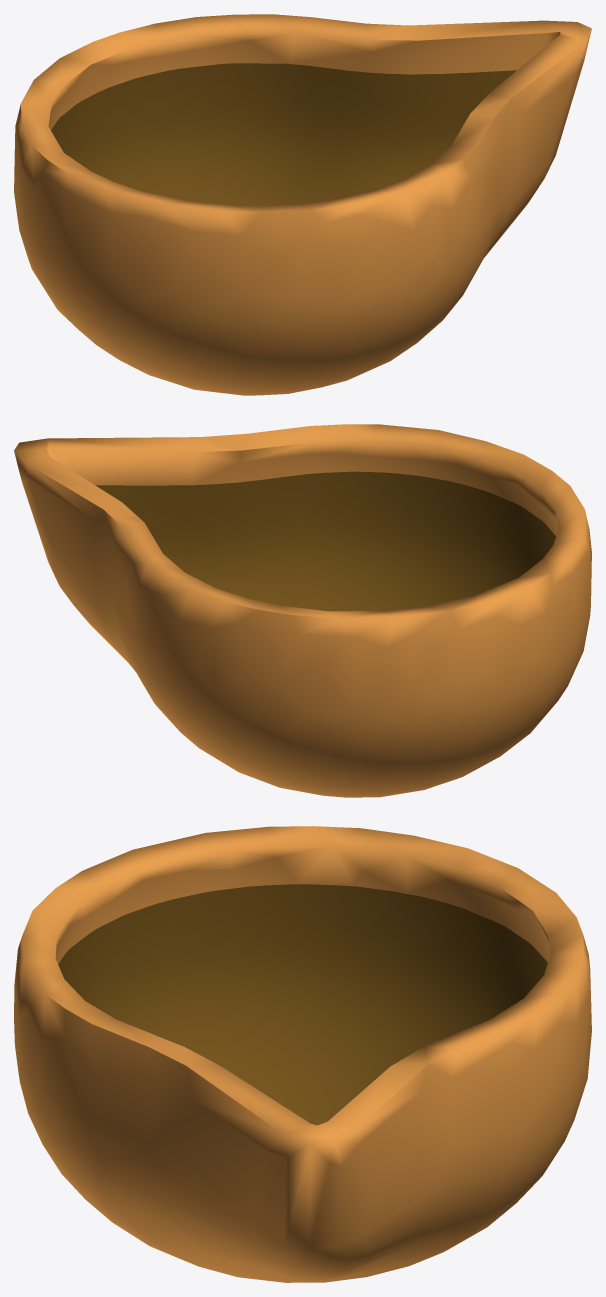
The model's file is musbiehNew.fbx.
3 renders of one model, top to bottom at view 1: azimuth 30°, elevation 25°; view 2: azimuth 150°, elevation 25°; view 3: azimuth 270°, elevation 25°, orthographic. The views are drawn at different scales.
Visible parts, largest first — view 1: Sphere.001; view 2: Sphere.001; view 3: Sphere.001.
Boxes of the visible parts, x1,y1,x2,y2 form: Sphere.001: (14,14,591,395); Sphere.001: (14,424,591,797); Sphere.001: (14,826,591,1282).
Bounding box in the file's own units: 261 × 116 × 198.
